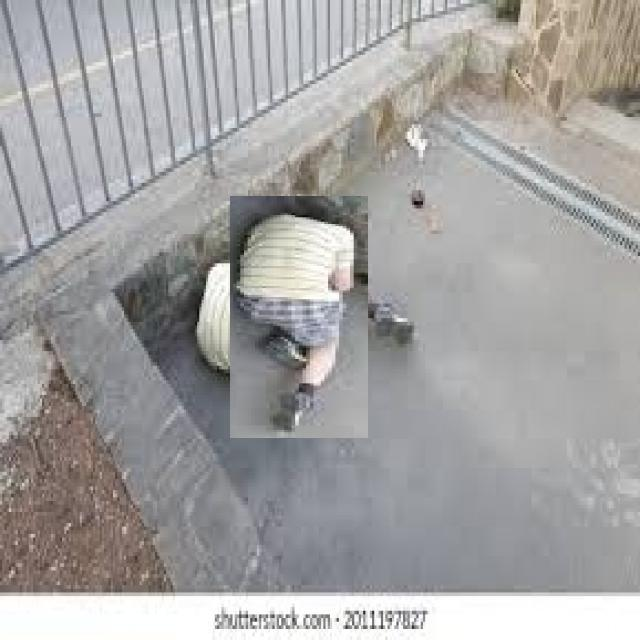Fall: (231, 203, 359, 431)
